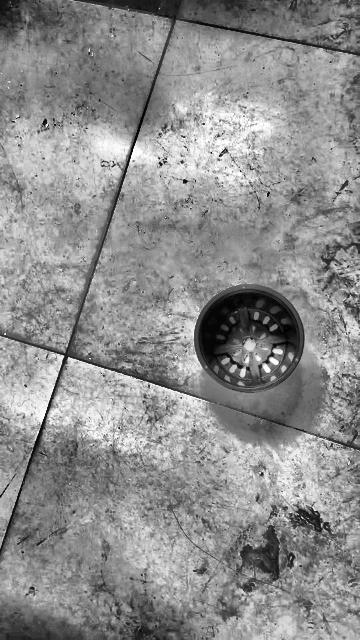pot: (194, 286, 305, 392)
